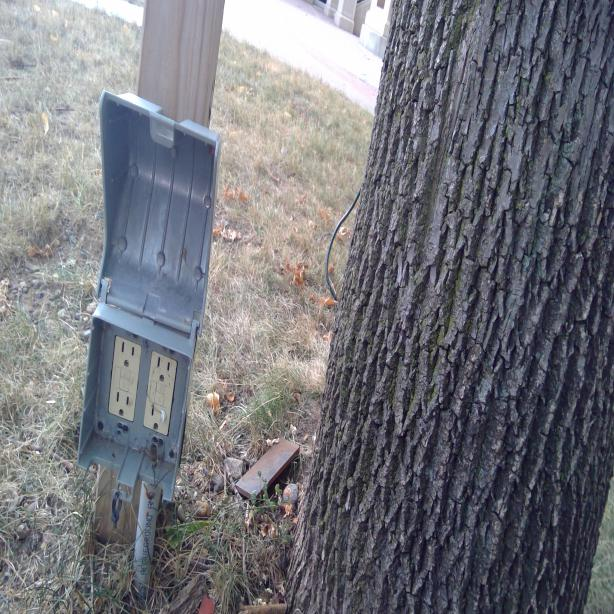typeb: (148, 398, 168, 435), (118, 336, 137, 373), (153, 352, 171, 385), (112, 389, 131, 420)
